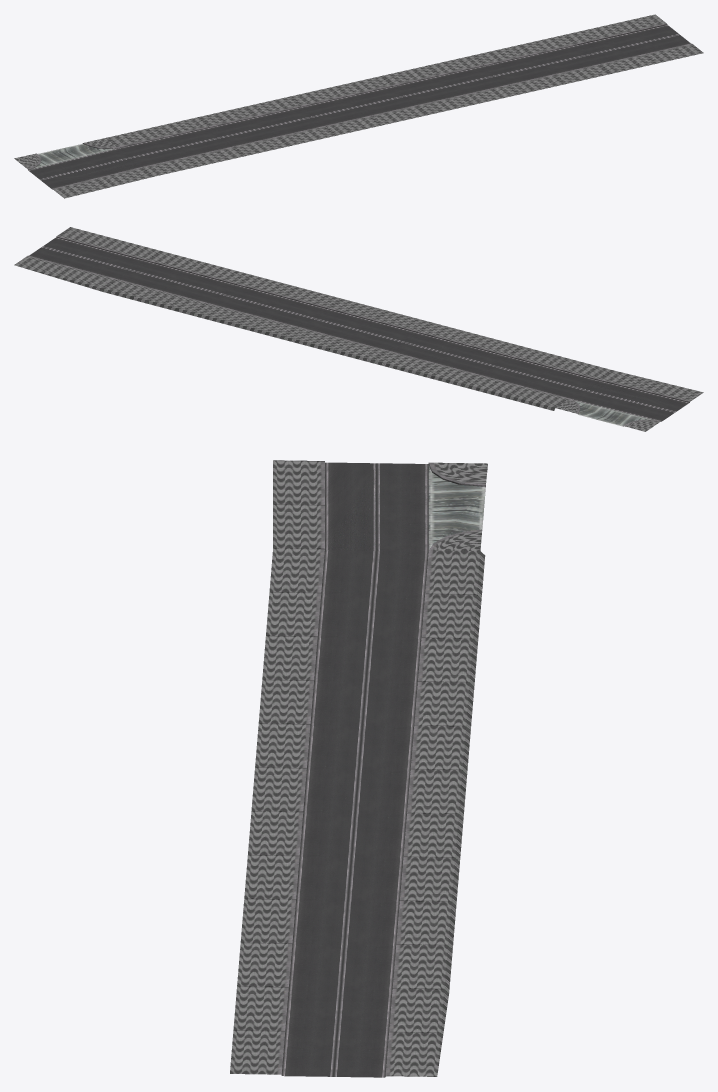
File: roadssfs21.obj
The picture shows the model from 3 angles, top to bottom: view 1: azimuth 30°, elevation 25°; view 2: azimuth 150°, elevation 25°; view 3: azimuth 270°, elevation 25°; orthographic projection. The views are drawn at different scales.
Parts seen in each view (by area): view 1: ROADSsfs21; view 2: ROADSsfs21; view 3: ROADSsfs21.
Boxes of the visible parts, left/top/right/bottom form: ROADSsfs21: left=14, top=14, right=703, bottom=198; ROADSsfs21: left=14, top=227, right=703, bottom=431; ROADSsfs21: left=230, top=460, right=487, bottom=1077.
Bounding box in the file's own units: 141 × 0.4549 × 24.89.
3 materials, 3 textured.
